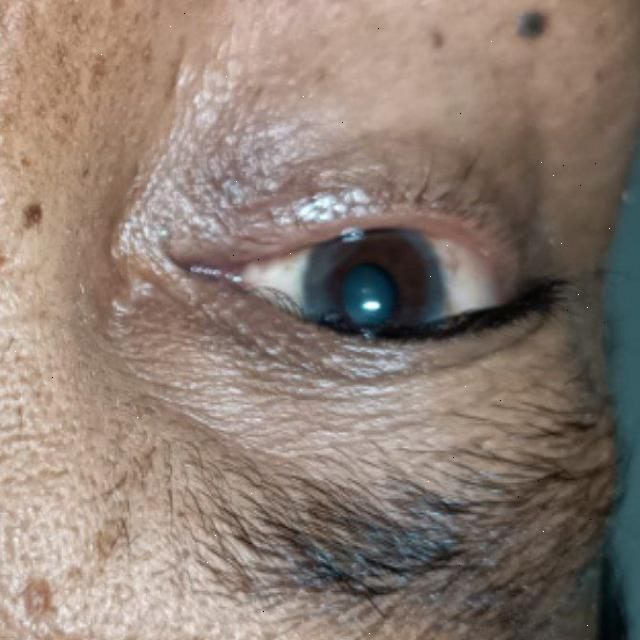Cataract: (305, 213, 440, 369)
